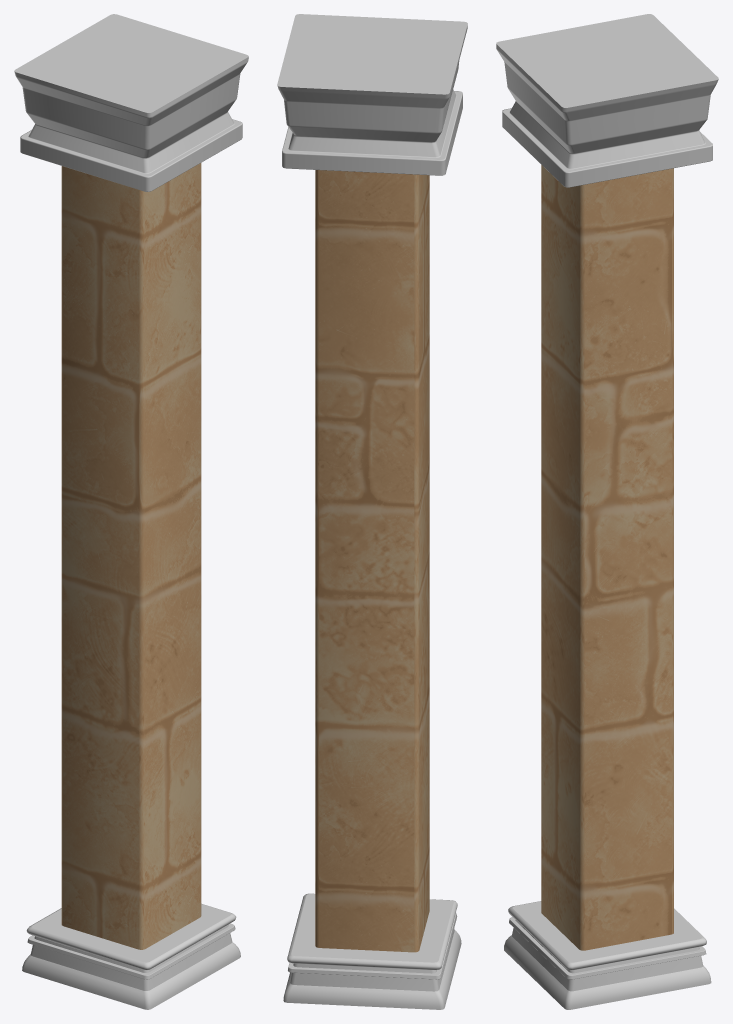
The model's file is SM_Dome_Column.fbx.
3 views of the same model, side by side, from view 1: azimuth 30°, elevation 25°; view 2: azimuth 150°, elevation 25°; view 3: azimuth 270°, elevation 25° (orthographic).
Visible parts, largest first — view 1: SM_Dome_Column_LOD0; view 2: SM_Dome_Column_LOD0; view 3: SM_Dome_Column_LOD0.
Part boxes in pixels (x1,y1,x2,y2): SM_Dome_Column_LOD0: (14,14,248,1009); SM_Dome_Column_LOD0: (277,14,467,1009); SM_Dome_Column_LOD0: (496,14,718,1009).
Bounding box in the file's own units: 77.91 × 77.96 × 350.
